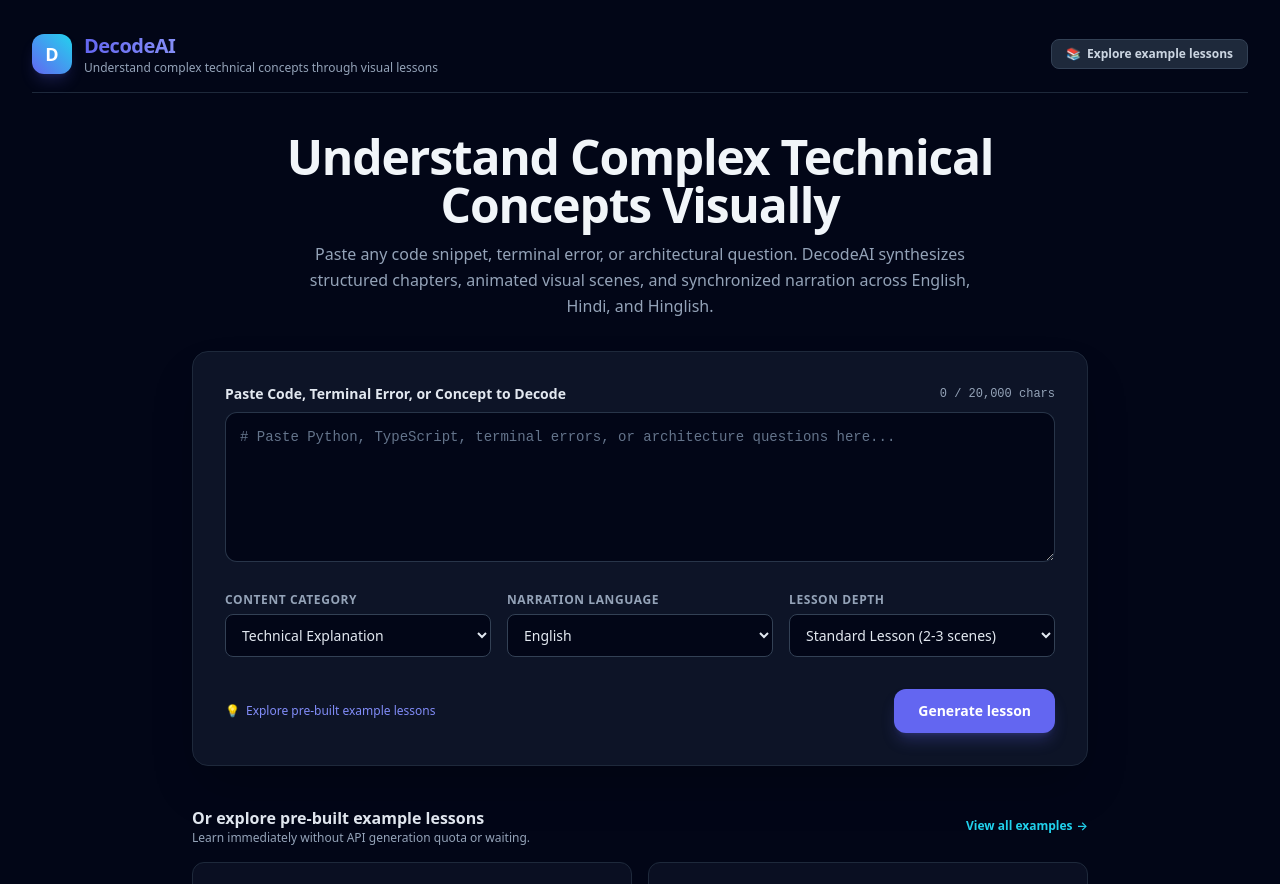
Test: Home Page — Product UX & Failure Recovery › renders friendly Recovery Panel for HTTP 503 and 504 without leaking server internals
Replace the text in the text box labelled "Paste Code, Terminal Error, or Concept to Decode" with "SELECT * FROM users WHERE active = true;". click: (640,487)
box: [225, 412, 1055, 562]
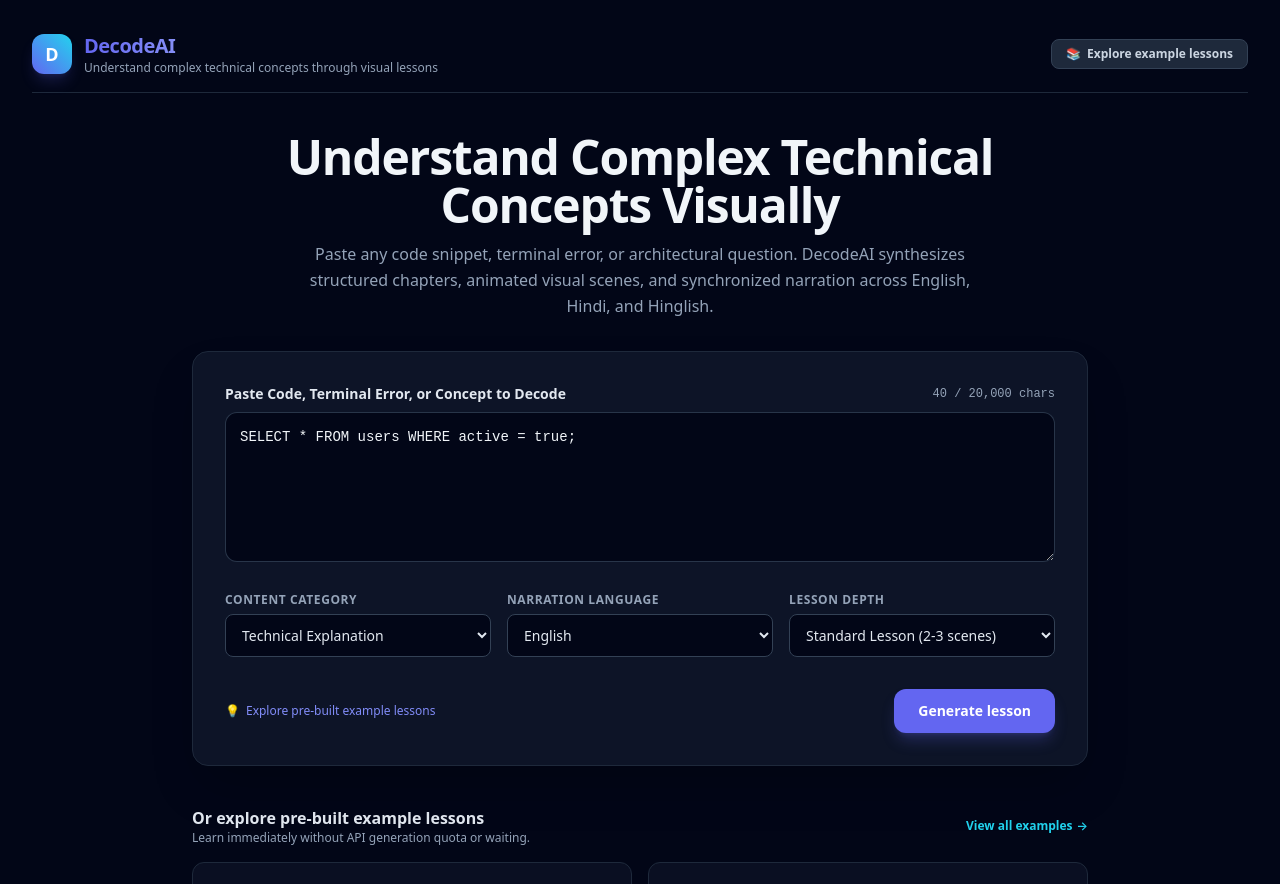
Click the button "Generate lesson". click: (975,711)
box: [894, 689, 1055, 733]
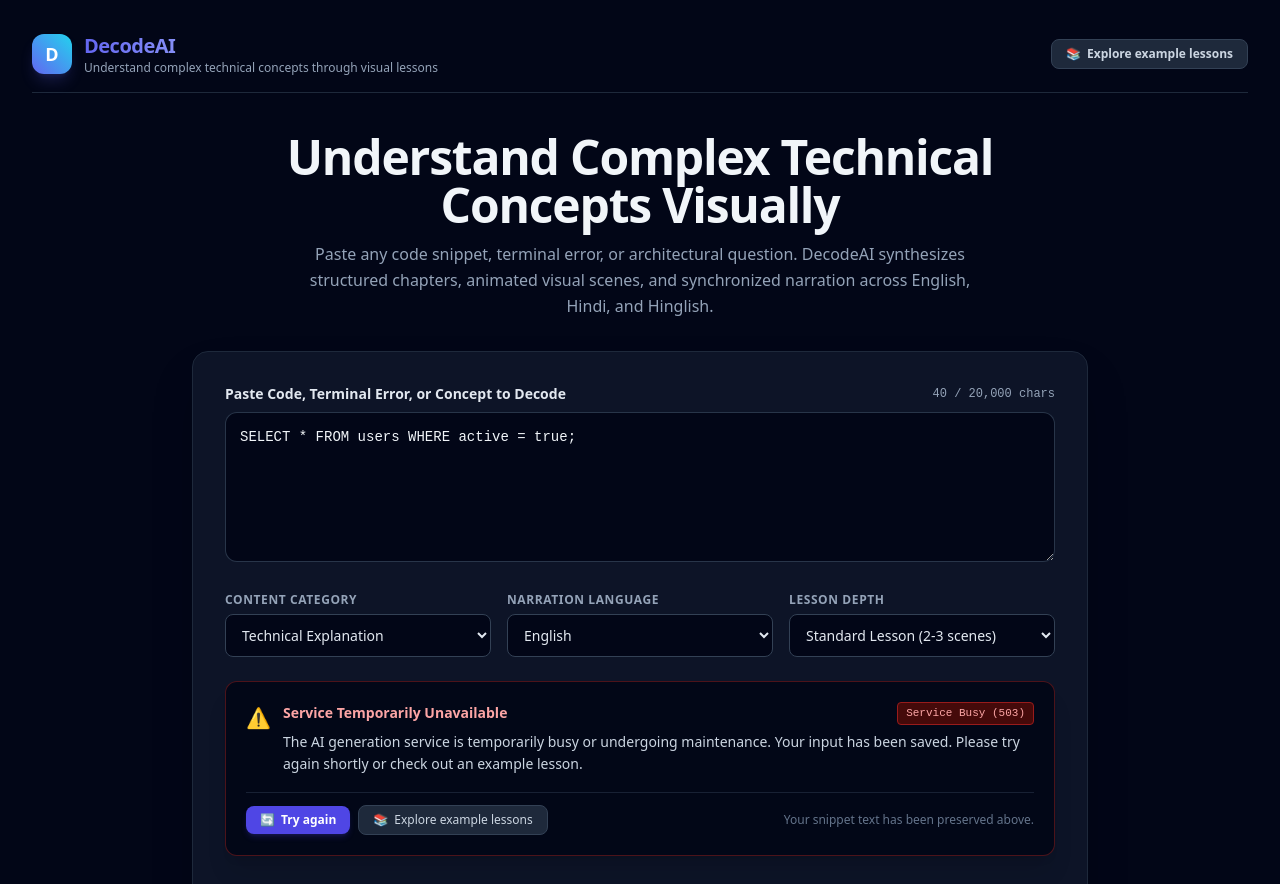
Now the message is shown, box [225, 681, 1055, 856]
Now the text "Service Temporarily Unavailable" is shown, box [283, 703, 508, 723]
Now the text "Service Busy (503)" is shown, box [897, 702, 1034, 724]
